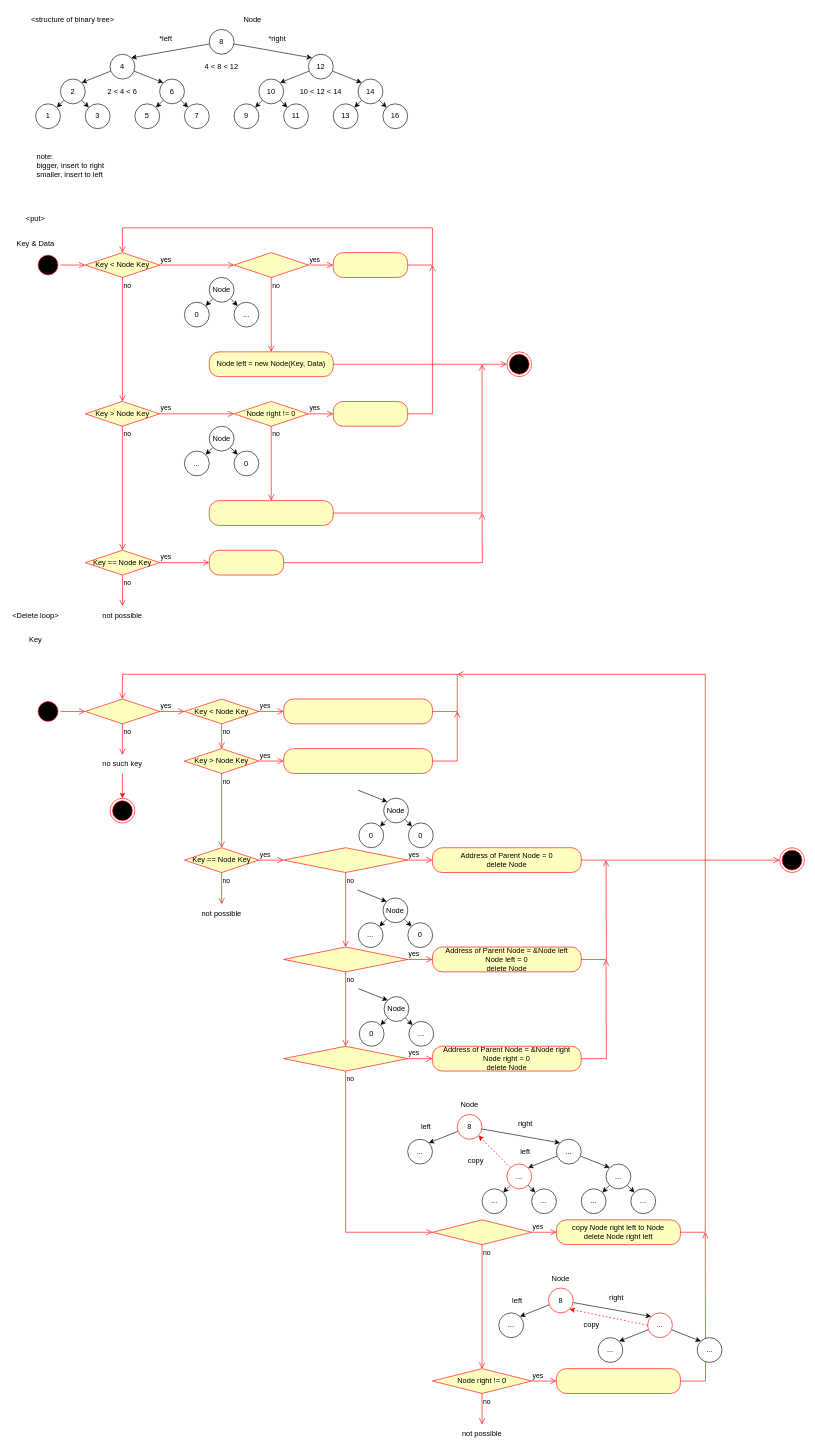
Some shapes in this 815 by 1453 pixel diagram are drawn without their labels. The shapes that lost their labels are listed below. From the top down, each one's centre as x and y in pixels, then its label:
[270,264]: Node left != 0
[370,264]: Node = Node left
[370,413]: Node = Node right
[271,512]: Node right = new Node(Key, Data)
[246,562]: Node Data = Data
[122,711]: Node != 0
[357,711]: Address of Parent Node = &Node left Node = Node left
[357,760]: Address of Parent Node = &Node right Node = Node right
[345,860]: Node left == 0 && Node right == 0
[345,959]: Node left != 0 && Node right == 0
[345,1058]: Node left == 0 && Node right != 0
[482,1232]: Node right left != 0
[618,1380]: copy Node right to Node delete Node right
